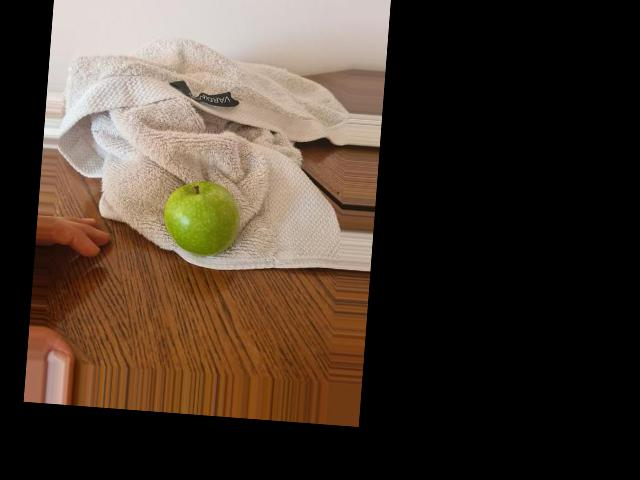apple: (161, 174, 240, 262)
